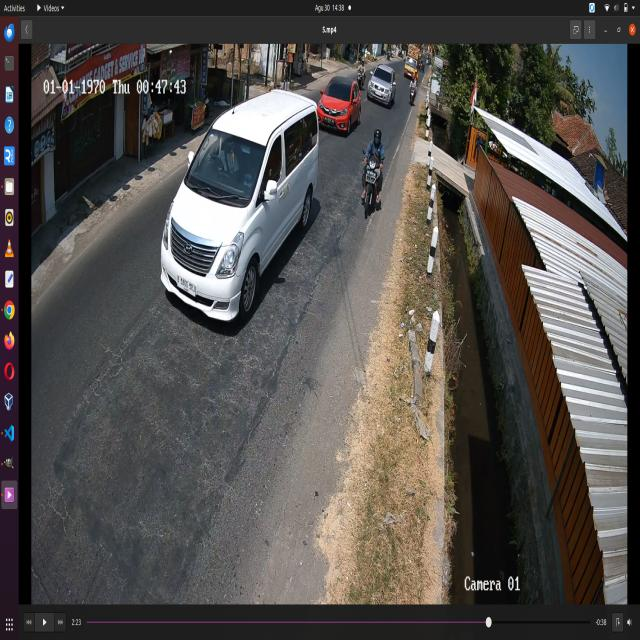person_with_seatbelt: (211, 132, 240, 180)
